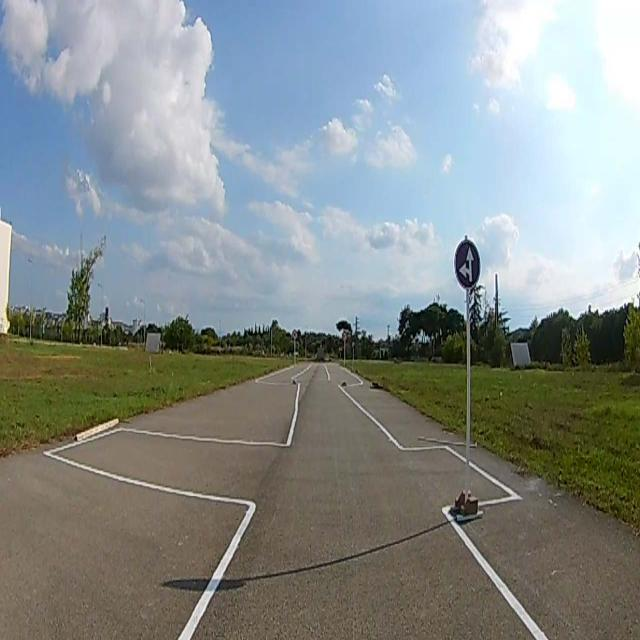ilerisol: (456, 240, 481, 288)
